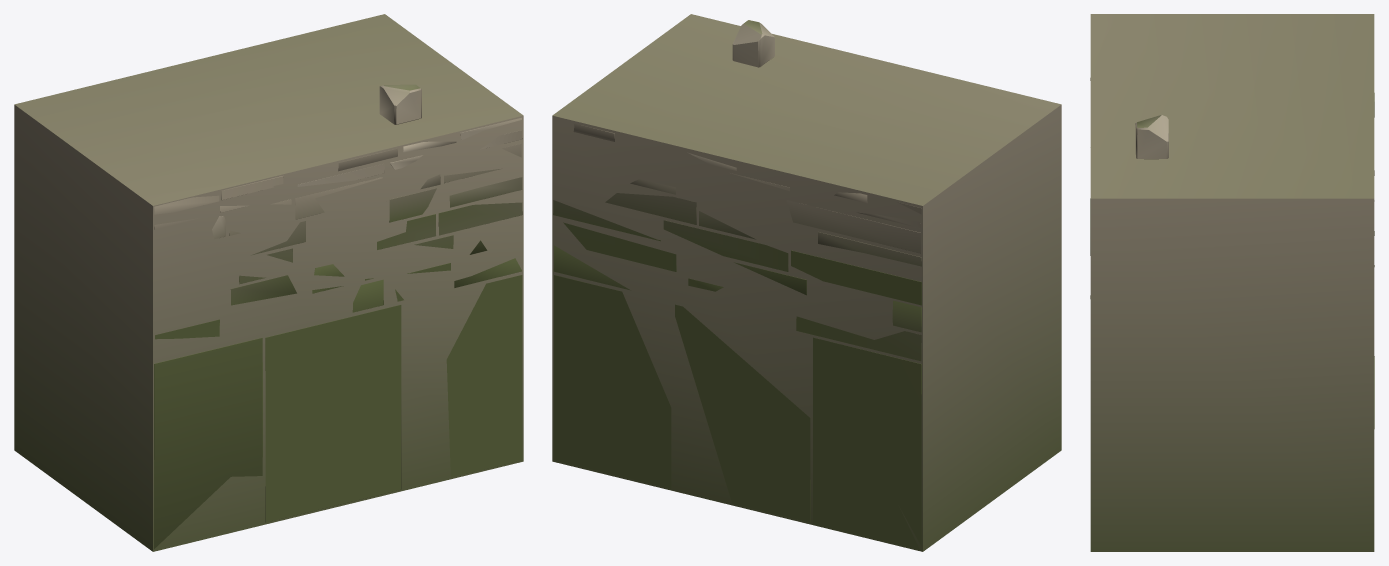
Rendered from harbour_quay.glb.
3 renders of one model, left to right at view 1: azimuth 30°, elevation 25°; view 2: azimuth 150°, elevation 25°; view 3: azimuth 270°, elevation 25°, orthographic. The views are drawn at different scales.
Visible parts, largest first — view 1: harbour_quay_far, harbour_quay; view 2: harbour_quay_far, harbour_quay; view 3: harbour_quay_far, harbour_quay.
Boxes of the visible parts, <box> form: harbour_quay_far: <box>14,14,523,551</box>; harbour_quay: <box>154,84,522,548</box>; harbour_quay_far: <box>552,14,1061,551</box>; harbour_quay: <box>553,20,921,549</box>; harbour_quay_far: <box>1090,14,1374,551</box>; harbour_quay: <box>1090,78,1374,428</box>.
Size of the model in its own units: 18.5 by 17.96 by 12.02.
